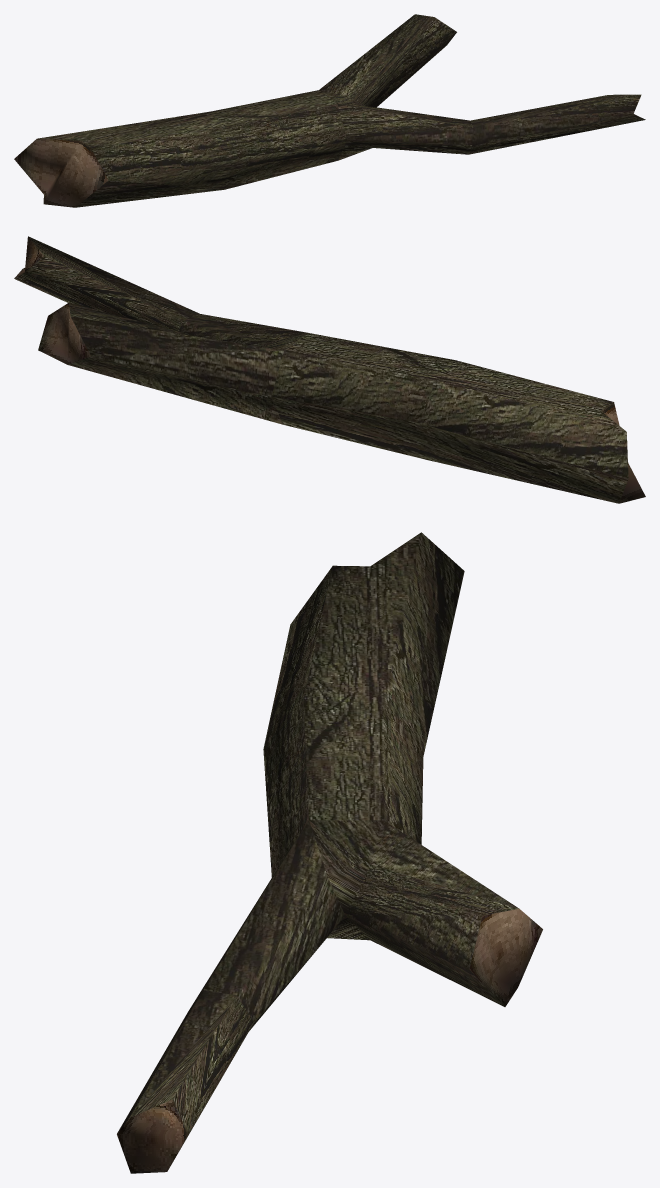
The model's file is OW_LOB_TREE_DESTROYED_V2.glb.
3 views of the same model, one above another, from view 1: azimuth 30°, elevation 25°; view 2: azimuth 150°, elevation 25°; view 3: azimuth 270°, elevation 25° (orthographic). The views are drawn at different scales.
Parts seen in each view (by area): view 1: Mesh; view 2: Mesh; view 3: Mesh.
Boxes of the visible parts, left/top/right/bottom form: Mesh: left=14, top=14, right=645, bottom=207; Mesh: left=14, top=236, right=645, bottom=503; Mesh: left=117, top=532, right=542, bottom=1173.
Bounding box in the file's own units: 13.45 × 1.84 × 4.53.
2 materials, 2 textured.
